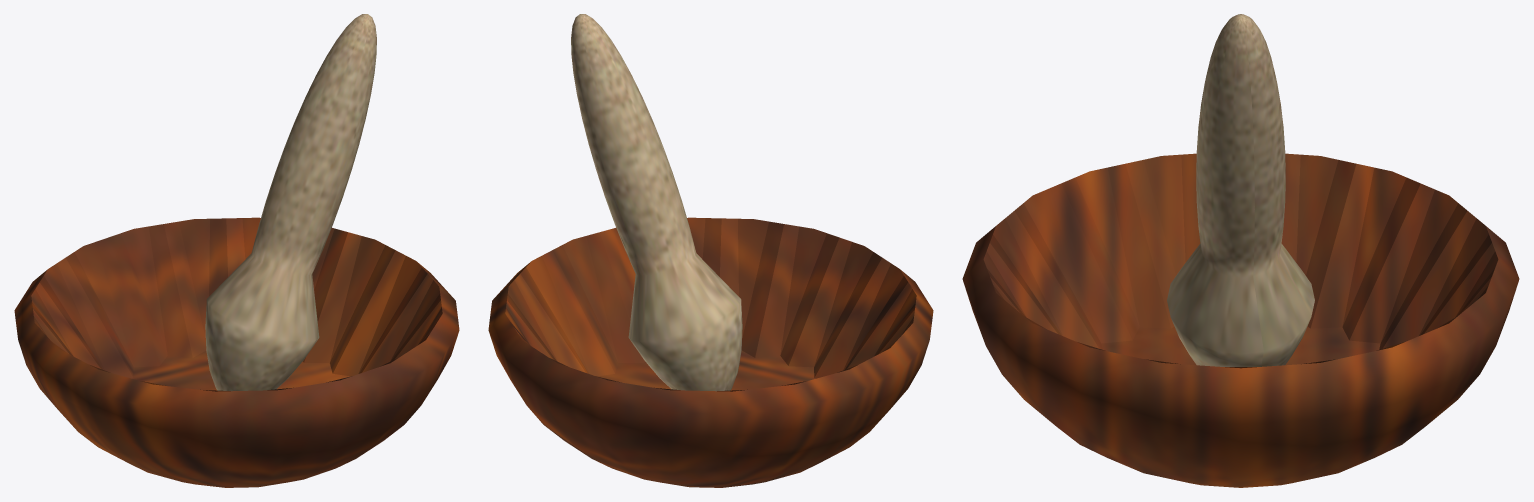
Rendered from GrindingStation.fbx.
The picture shows the model from 3 angles, left to right: view 1: azimuth 30°, elevation 25°; view 2: azimuth 150°, elevation 25°; view 3: azimuth 270°, elevation 25°; orthographic projection. The views are drawn at different scales.
Visible parts, largest first — view 1: bowl, masherthing; view 2: bowl, masherthing; view 3: bowl, masherthing.
Boxes of the visible parts, box(x1,y1,x2,y2) form: bowl: box(14, 217, 459, 487); masherthing: box(205, 14, 376, 391); bowl: box(488, 217, 933, 487); masherthing: box(571, 14, 742, 391); bowl: box(962, 153, 1519, 487); masherthing: box(1167, 14, 1314, 366).
Bounding box in the file's own units: 1.98 × 2.03 × 1.98.
2 materials, 2 textured.
